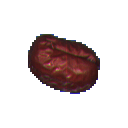ng: (23, 26, 108, 99)
